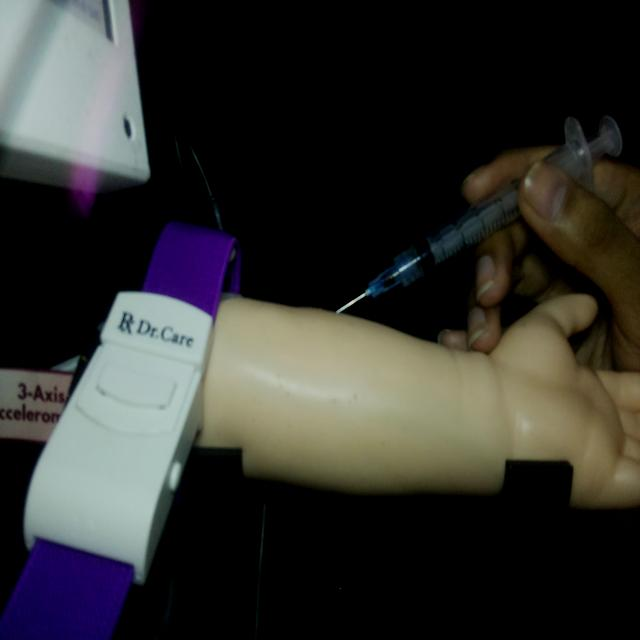22 degrees: (334, 110, 624, 316)
